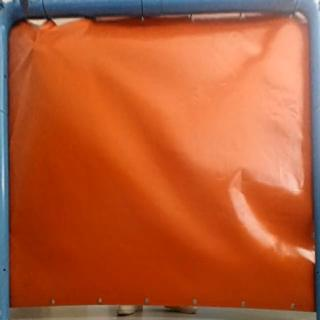Hit-hRxx: (26, 42, 38, 53)
